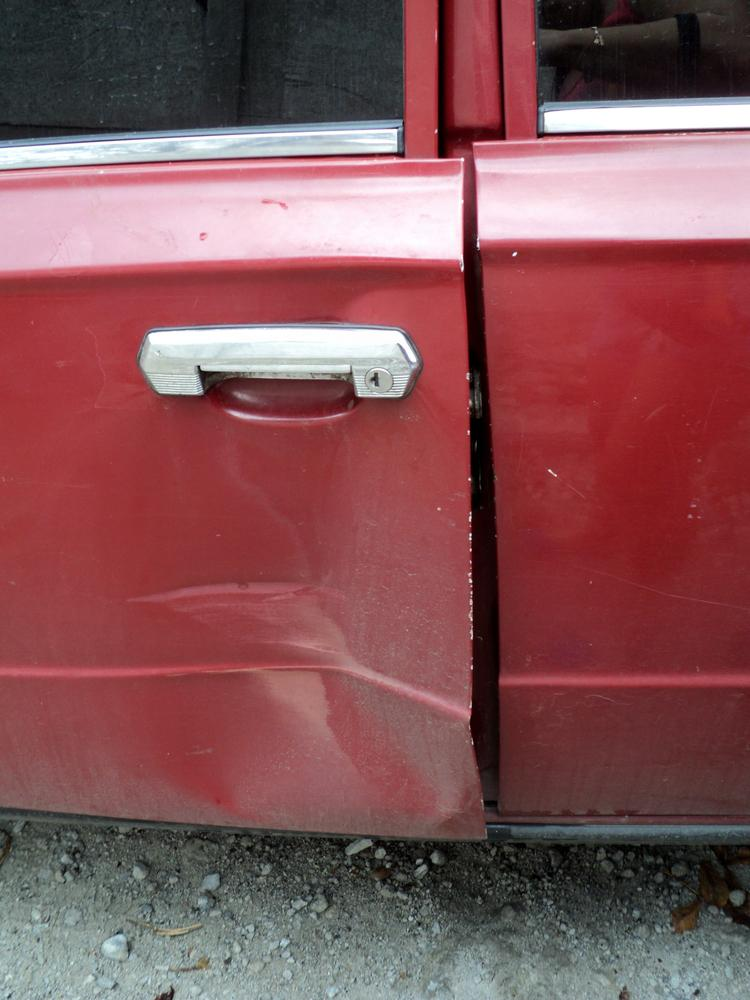dent: (122, 402, 456, 830)
